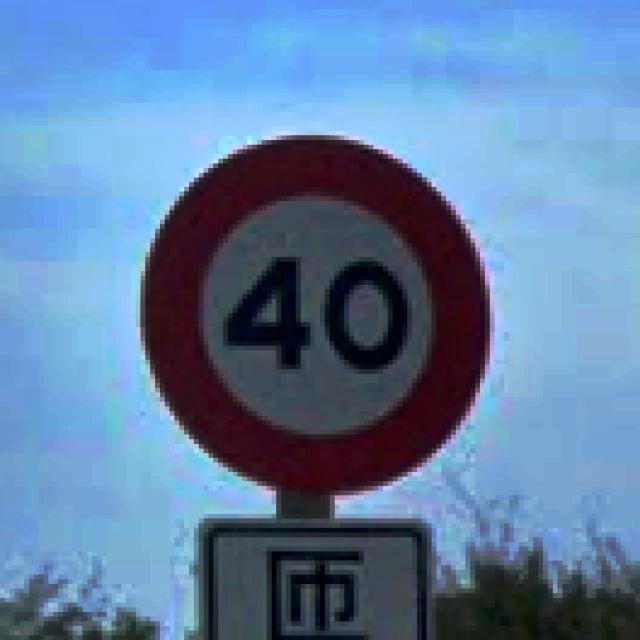max40: (136, 126, 490, 495)
